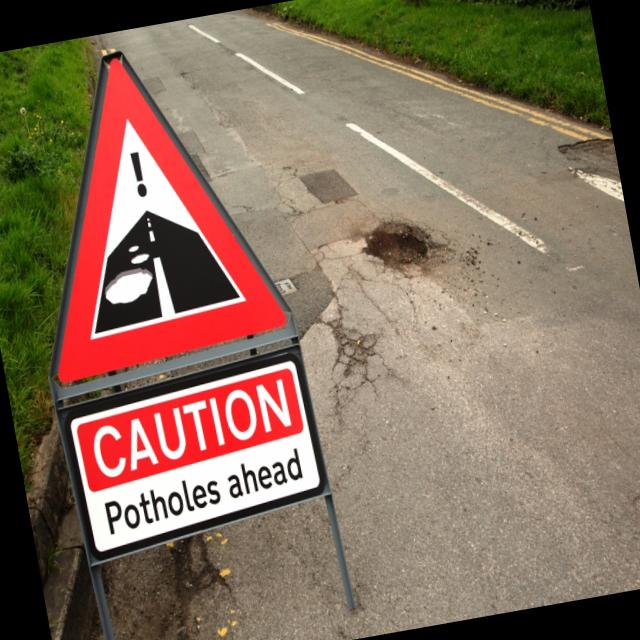Potholes: (353, 189, 452, 291)
